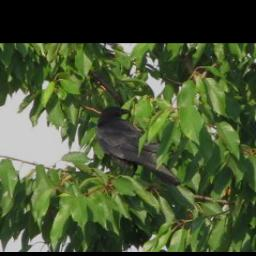Crow: (94, 105, 182, 186)
